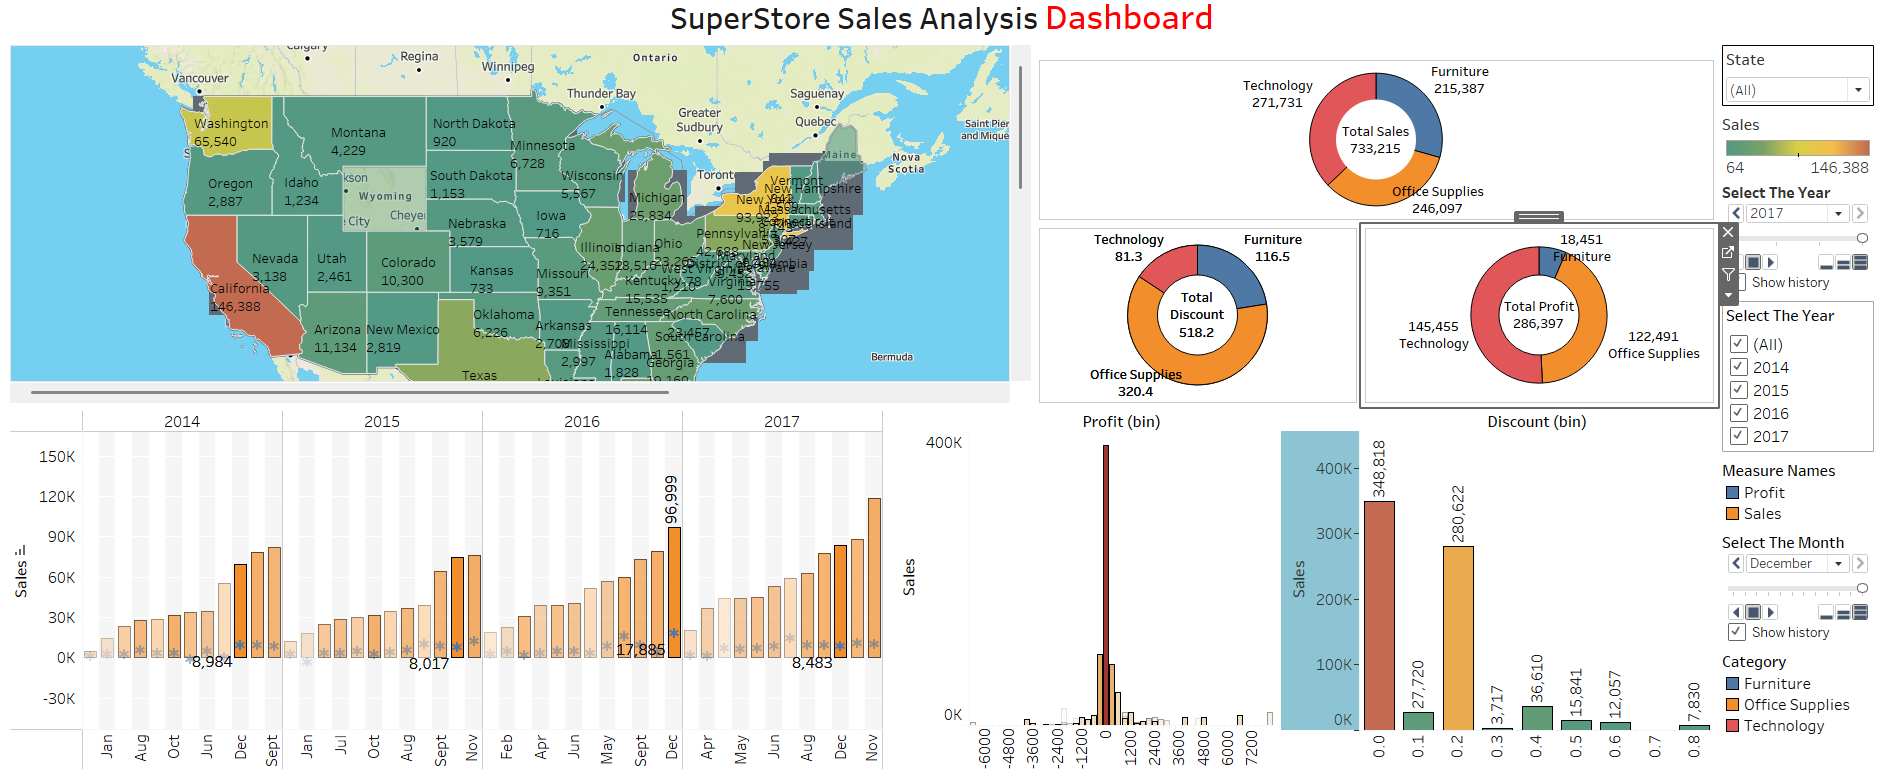

The dashboard page shown, as its layout file describes it:
{"tool":"tableau","page":{"name":"Dashboard 1 (2)","canvas":[1000,1000],"units":"permille","ordinal":1},"visuals":[{"type":"title","box":[4.8,10,990.3,64.9]},{"type":"worksheet","title":"Choropleth Map","mark":"Automatic","box":[4.8,74.9,537,457.5]},{"type":"worksheet","title":"Sales Donut","mark":"Pie","rows":["Calculation_1317584409754124292","Calculation_1317584409754124292"],"box":[541.8,74.9,356.8,228.7]},{"type":"filter","title":"Choropleth Map","param":"[federated.04ldi8417whpr212quo3u0fojn0v].[none:State:nk]","box":[898.6,74.9,96.6,86.1]},{"type":"legend","title":"Choropleth Map","param":"[federated.04ldi8417whpr212quo3u0fojn0v].[sum:Sales:qk]","box":[898.6,161.1,96.6,84.9]},{"type":"currpage","title":"Choropleth Map","box":[898.6,246,96.6,148.6]},{"type":"worksheet","title":"Discount Donut","mark":"Pie","rows":["Calculation_1317584409754124292","Calculation_1317584409754124292"],"box":[541.8,303.7,170.2,228.8]},{"type":"worksheet","title":"Profit Donut","mark":"Pie","rows":["Calculation_1317584409754124292","Calculation_1317584409754124292"],"box":[712,303.7,186.6,228.8]},{"type":"filter","title":"Sales/Profit","param":"[federated.04ldi8417whpr212quo3u0fojn0v].[yr:Order Date:ok]","box":[898.6,394.5,96.6,198.5]},{"type":"worksheet","title":"Sales/Profit","mark":"Automatic","rows":["Sales","Profit"],"cols":["Order Date","Order Date"],"box":[4.8,532.4,459.9,457.6]},{"type":"worksheet","title":"Profit Dist","mark":"Automatic","rows":["Sales"],"cols":["Profit (bin)"],"box":[464.7,532.4,203.5,457.6]},{"type":"worksheet","title":"Discount","mark":"Automatic","rows":["Sales"],"cols":["Discount (bin)"],"box":[668.2,532.4,230.4,457.6]},{"type":"legend","title":"Sales/Profit","param":"[federated.04ldi8417whpr212quo3u0fojn0v].[:Measure Names]","box":[898.6,593,96.6,89.9]},{"type":"currpage","title":"Sales/Profit","box":[898.6,682.9,96.6,148.6]},{"type":"legend","title":"Sales Donut","param":"[federated.04ldi8417whpr212quo3u0fojn0v].[none:Category:nk]","box":[898.6,831.5,96.6,116.1]}]}

Visuals, with their boxes on the dashboard's canvas, which has no fixed pixel size, in thousandths of its width and height (x1, y1, x2, y2). These are canvas units, not pixel positions in the 1885x782 screenshot, which may show the page scaled, cropped or inside an application window:
title: (5,10,995,75)
"Choropleth Map" worksheet: (5,75,542,532)
"Sales Donut" worksheet (Pie marks): (542,75,899,304)
"Choropleth Map" filter: (899,75,995,161)
"Choropleth Map" legend: (899,161,995,246)
"Choropleth Map" currpage: (899,246,995,395)
"Discount Donut" worksheet (Pie marks): (542,304,712,532)
"Profit Donut" worksheet (Pie marks): (712,304,899,532)
"Sales/Profit" filter: (899,394,995,593)
"Sales/Profit" worksheet: (5,532,465,990)
"Profit Dist" worksheet: (465,532,668,990)
"Discount" worksheet: (668,532,899,990)
"Sales/Profit" legend: (899,593,995,683)
"Sales/Profit" currpage: (899,683,995,832)
"Sales Donut" legend: (899,832,995,948)
